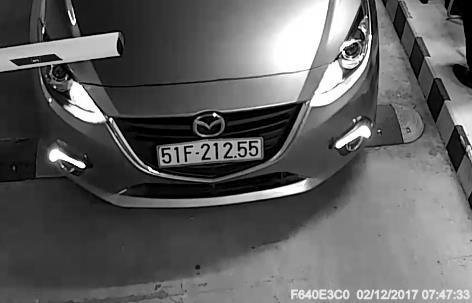License-plate: (153, 132, 270, 176)
